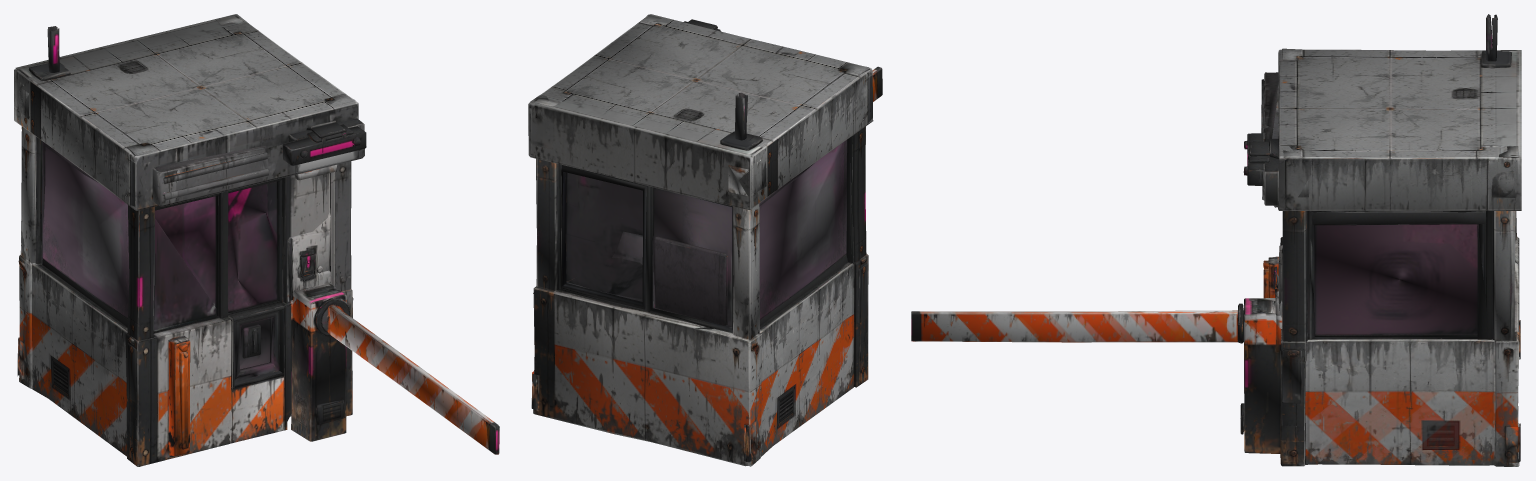
File: guard_booth.glb
3 views of the same model, side by side, from view 1: azimuth 30°, elevation 25°; view 2: azimuth 150°, elevation 25°; view 3: azimuth 270°, elevation 25° (orthographic).
Size of the model in its own units: 0.4229 by 0.6445 by 1.
1 material, 1 textured.
